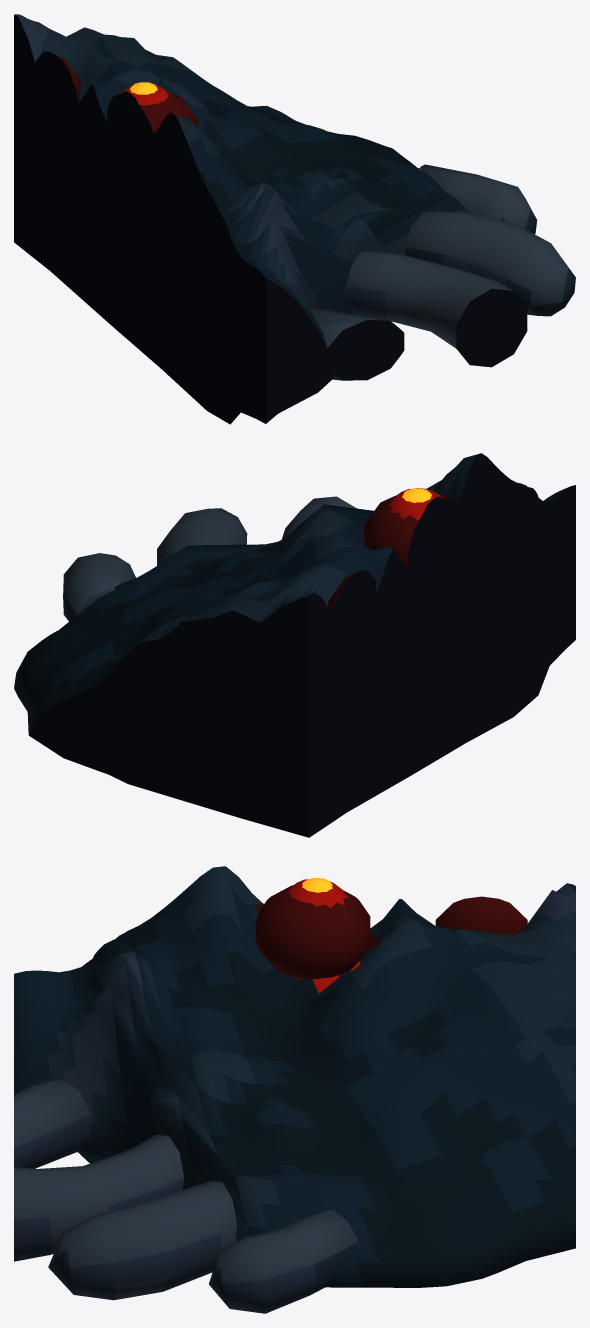
File: newshn-123.glb
3 views of the same model, one above another, from view 1: azimuth 30°, elevation 25°; view 2: azimuth 150°, elevation 25°; view 3: azimuth 270°, elevation 25° (orthographic). The views are drawn at different scales.
Parts seen in each view (by area): view 1: newshn-123; view 2: newshn-123; view 3: newshn-123.
Boxes of the visible parts, bbox=[...] form: newshn-123: bbox=[14, 14, 575, 424]; newshn-123: bbox=[14, 453, 575, 837]; newshn-123: bbox=[14, 866, 575, 1313].
Bounding box in the file's own units: 1.99 × 1.39 × 2.33.
